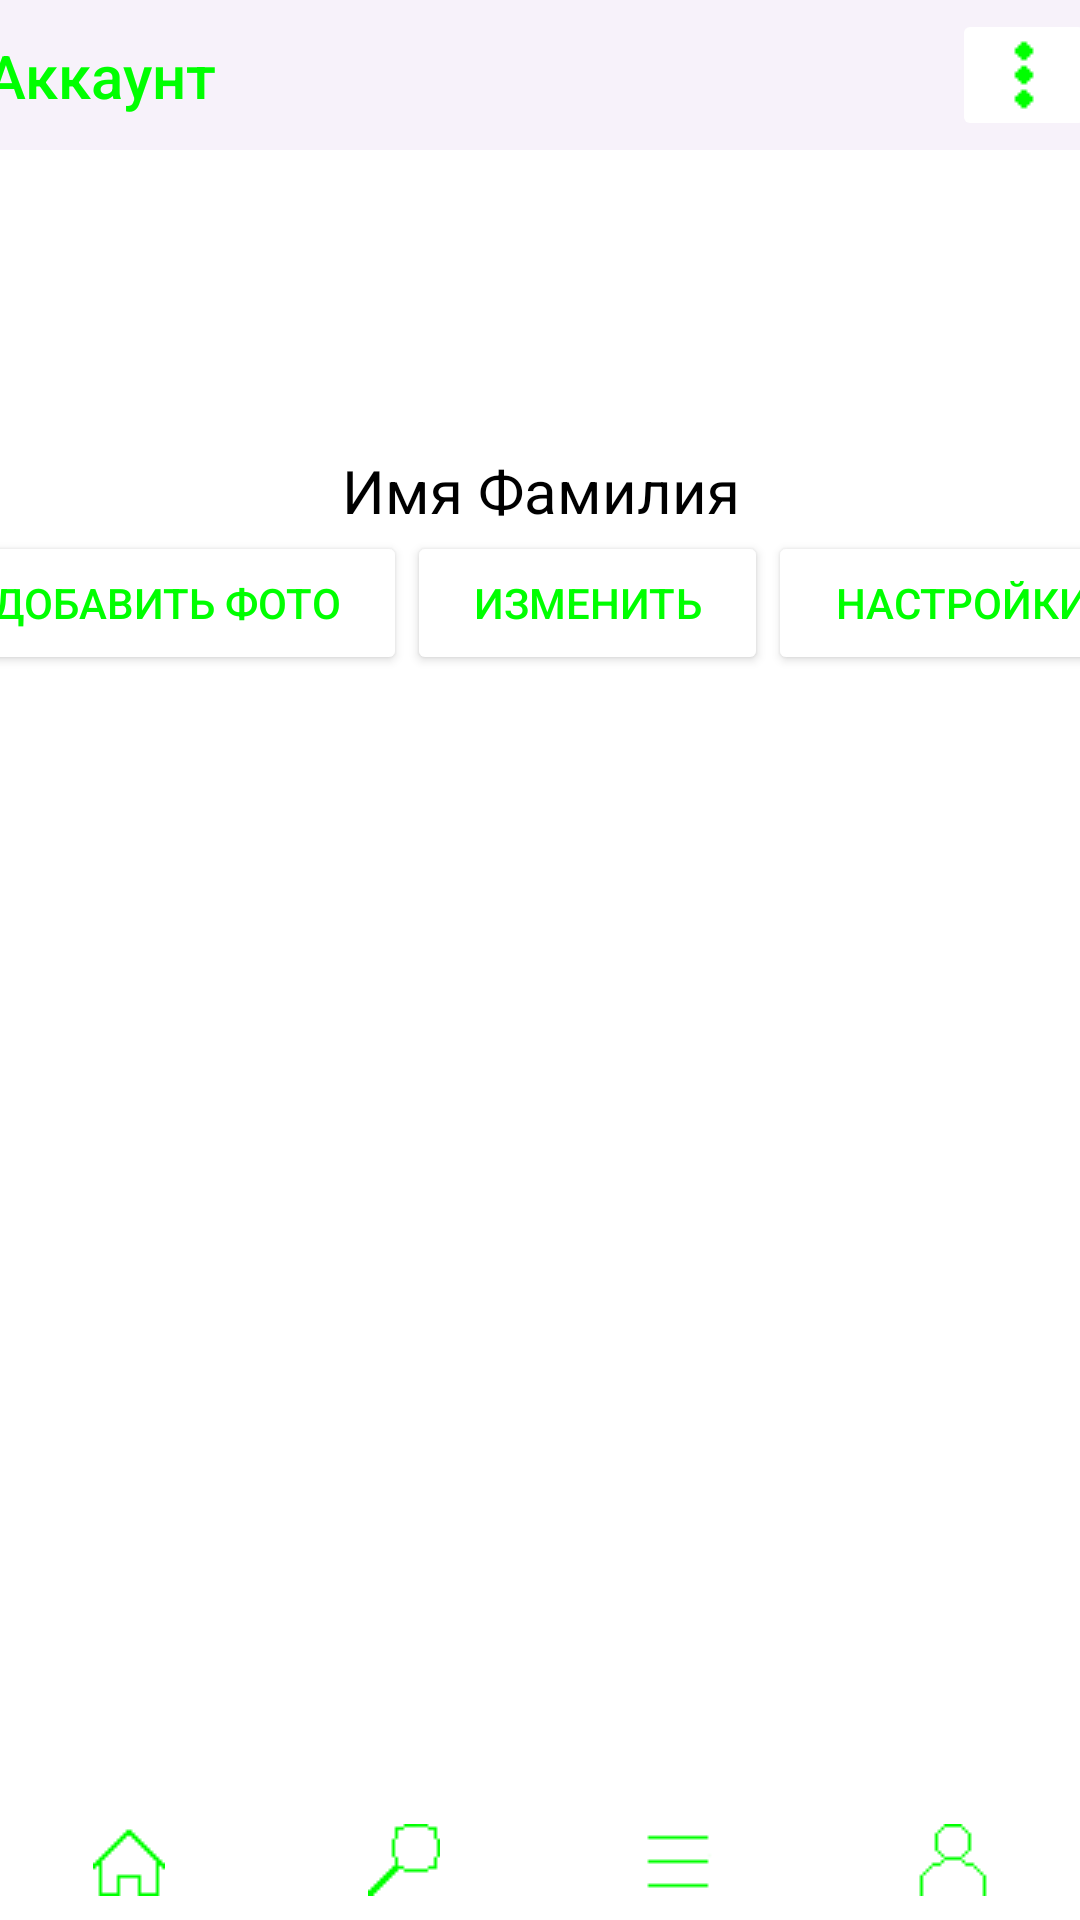

Where icons sit on this 1080 × 1920 app screen, as {"left": x1, "top": y1, "right": x2, "bottom": y2}:
menu: {"left": 647, "top": 1835, "right": 709, "bottom": 1888}
osnova: {"left": 93, "top": 1829, "right": 165, "bottom": 1896}
search: {"left": 368, "top": 1824, "right": 440, "bottom": 1896}
